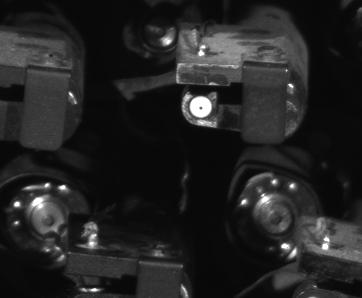fiber: (184, 94, 218, 122)
